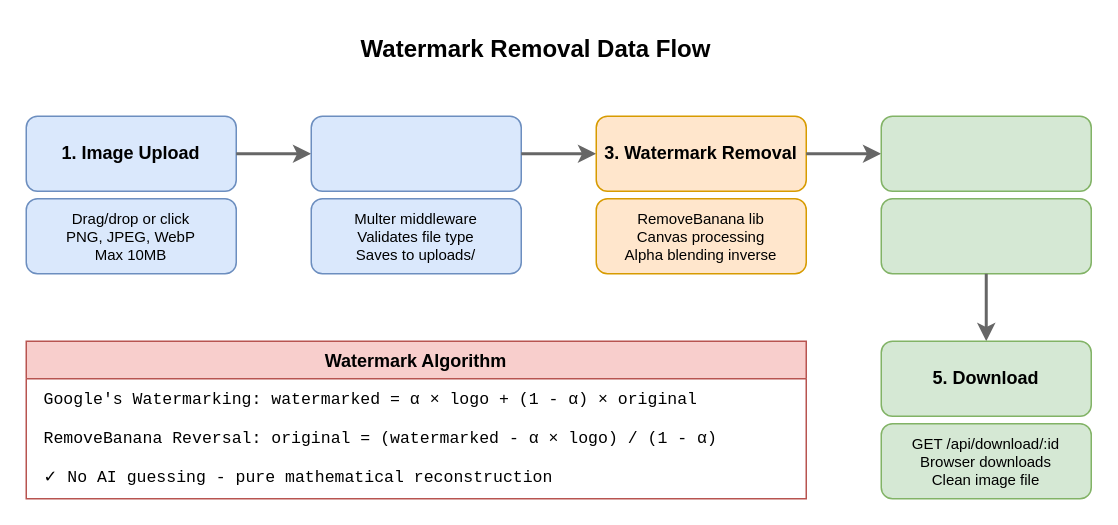
This 1118x525 diagram has some shape labels left out. Here are the shapes that lost their labels. From the top down, the centre of each, then its label:
At (415,153): "2. Server Receive".
At (985,153): "4. Output Save".
At (985,235): "Save to outputs/ Generate unique ID Return download URL".
